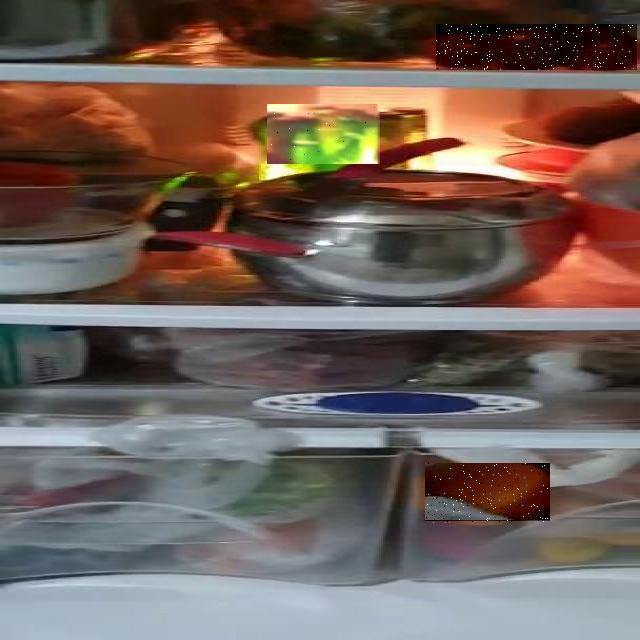Orange: (425, 464, 550, 524)
Tomato Paste: (436, 24, 637, 70)
Water: (268, 104, 382, 164)
